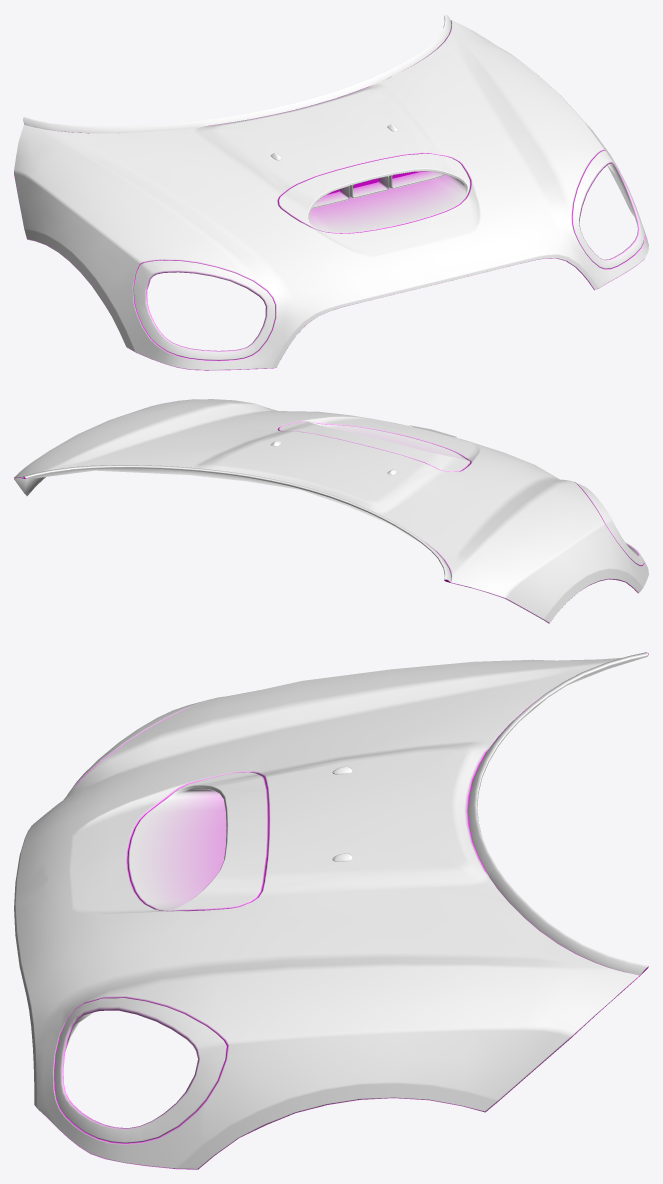
Rendered from Car_Mini_CountrymanJCW_2017_Hood_SetF_AltB.fbx.
The picture shows the model from 3 angles, top to bottom: view 1: azimuth 30°, elevation 25°; view 2: azimuth 150°, elevation 25°; view 3: azimuth 270°, elevation 25°; orthographic projection. The views are drawn at different scales.
Parts seen in each view (by area): view 1: Hood 6; view 2: Hood 6; view 3: Hood 6.
Part boxes in pixels (bbox=[...]): Hood 6: bbox=[14, 14, 648, 370]; Hood 6: bbox=[14, 399, 648, 623]; Hood 6: bbox=[14, 652, 648, 1169].
Bounding box in the file's own units: 1.78 × 0.3896 × 1.23.
